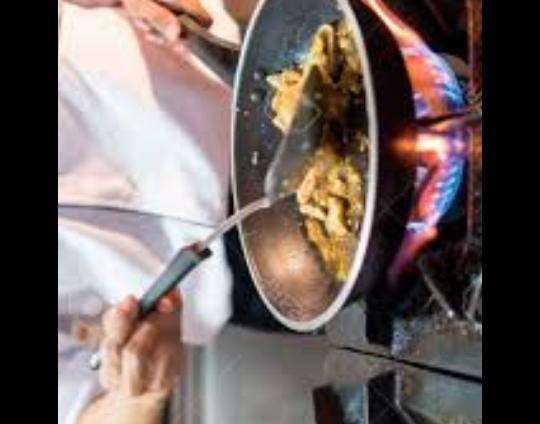controlled_fire: (352, 0, 474, 274)
